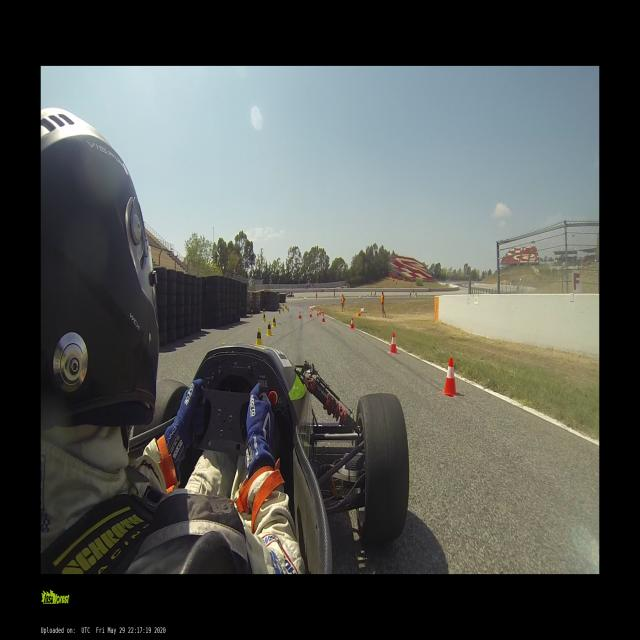orange_cone: (440, 357, 458, 396), (390, 332, 398, 354), (350, 317, 354, 329), (322, 313, 325, 322), (299, 312, 301, 319), (319, 310, 321, 315), (310, 311, 311, 317), (317, 310, 318, 316), (322, 309, 323, 315), (312, 306, 313, 310), (312, 307, 312, 310)
yellow_cone: (256, 327, 262, 345), (267, 321, 272, 336), (272, 316, 276, 327), (263, 313, 266, 322), (263, 308, 265, 316), (251, 310, 253, 317), (282, 308, 284, 312), (286, 306, 288, 310), (279, 309, 280, 314), (288, 307, 288, 312), (286, 306, 286, 310)
